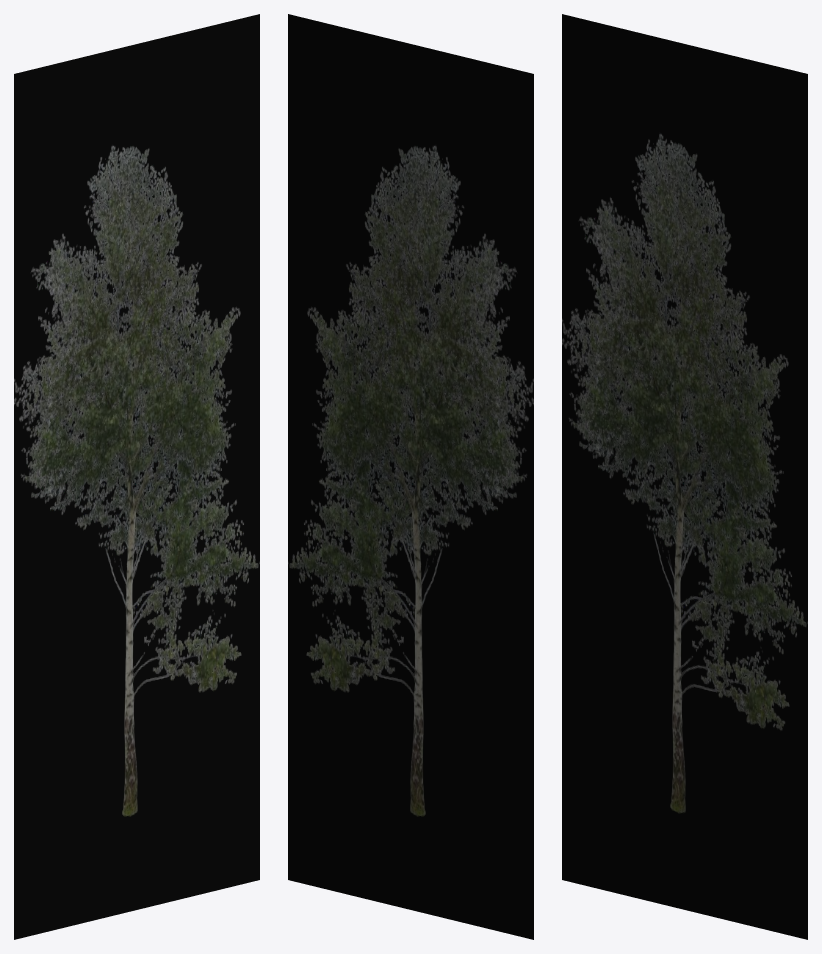
3 renders of one model, left to right at view 1: azimuth 30°, elevation 25°; view 2: azimuth 150°, elevation 25°; view 3: azimuth 330°, elevation 25°, orthographic.
Parts seen in each view (by area): view 1: 平面; view 2: 平面; view 3: 平面.
Part boxes in pixels (box(x1,y1,x2,y2)): 平面: box(14, 14, 259, 939); 平面: box(288, 14, 533, 939); 平面: box(562, 14, 807, 939).
Size of the model in its own units: 5.23 by 17.62 by 0.00341.
Materials: 1 (1 with a texture image).
